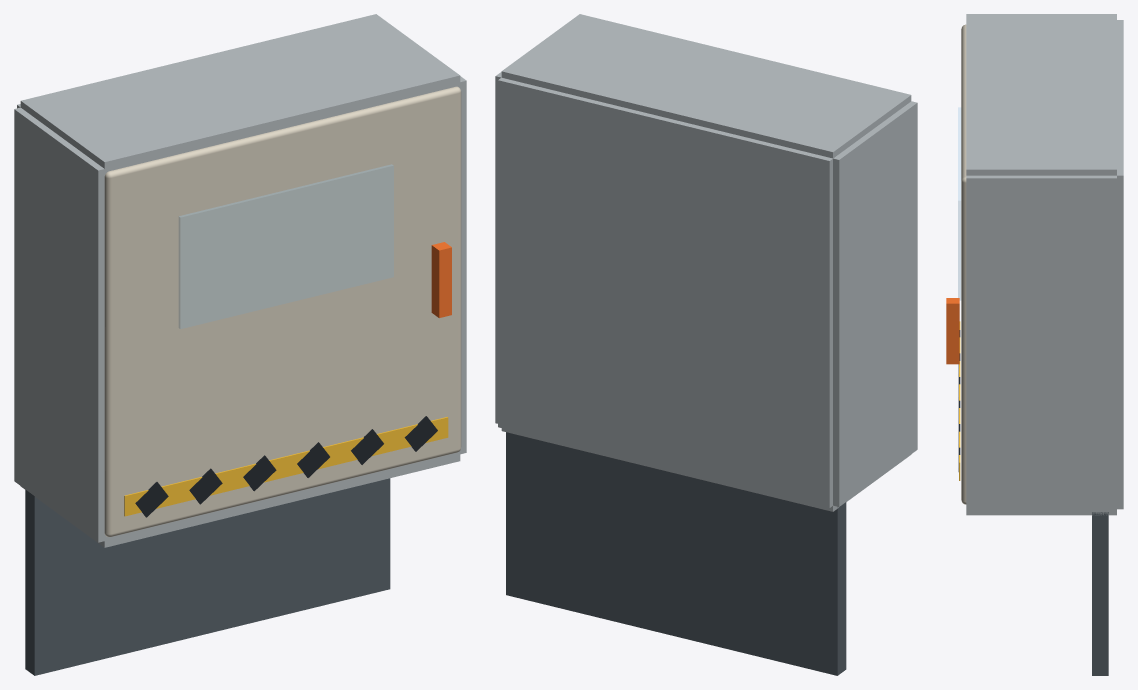
Rendered from spares-case.glb.
3 renders of one model, left to right at view 1: azimuth 30°, elevation 25°; view 2: azimuth 150°, elevation 25°; view 3: azimuth 270°, elevation 25°, orthographic. The views are drawn at different scales.
Parts seen in each view (by area): view 1: door-panel, spares-case-panel-grey, spares-case-dark-steel, door-window, _hz-hazard-yellow, _hz-dark-polymer, door-handle; view 2: spares-case-panel-grey, spares-case-dark-steel; view 3: spares-case-panel-grey, door-panel, spares-case-dark-steel, door-handle, door-window.
Boxes of the visible parts, x1,y1,x2,y2 form: door-panel: [104, 86, 461, 537]; spares-case-panel-grey: [14, 14, 466, 547]; spares-case-dark-steel: [25, 478, 390, 675]; door-window: [179, 164, 393, 328]; _hz-hazard-yellow: [124, 417, 448, 516]; _hz-dark-polymer: [135, 416, 437, 517]; door-handle: [431, 242, 451, 317]; spares-case-panel-grey: [495, 14, 917, 511]; spares-case-dark-steel: [506, 432, 846, 675]; spares-case-panel-grey: [966, 14, 1123, 515]; door-panel: [961, 24, 966, 504]; spares-case-dark-steel: [1092, 512, 1108, 675]; door-handle: [946, 298, 959, 364]; door-window: [958, 107, 960, 300].
Bounding box in the file's own units: 1.14 × 1.67 × 0.53.
